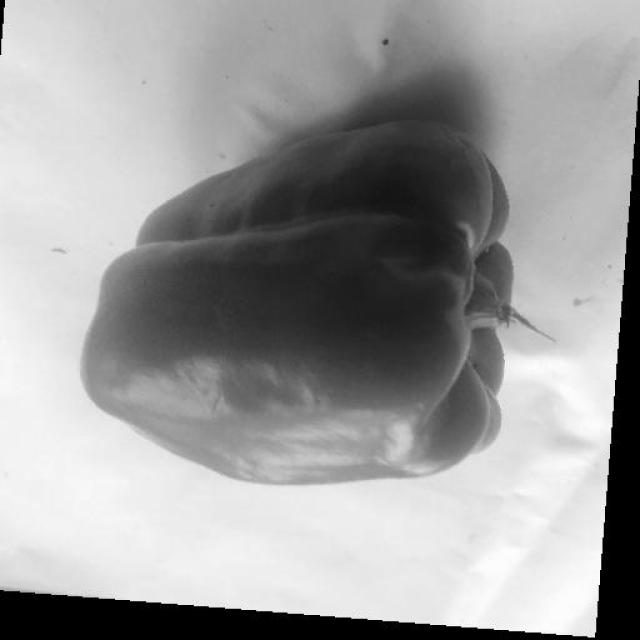Fresh_Capsicum: (185, 193, 494, 474)
